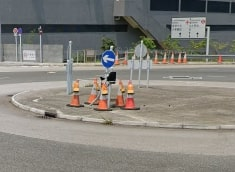Turn Left: (100, 50, 116, 68)
